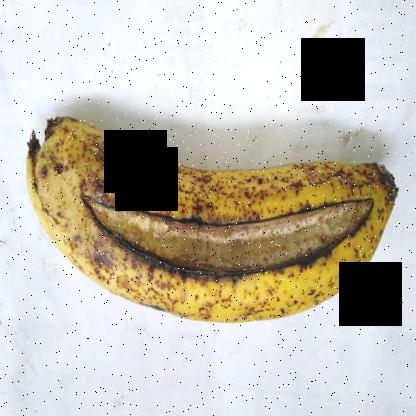rotten: (69, 165, 382, 319)
